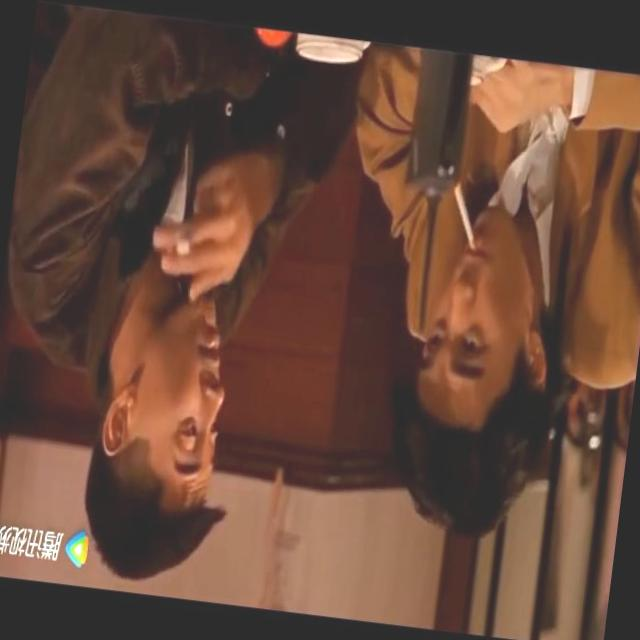cigarette: (442, 178, 488, 267)
